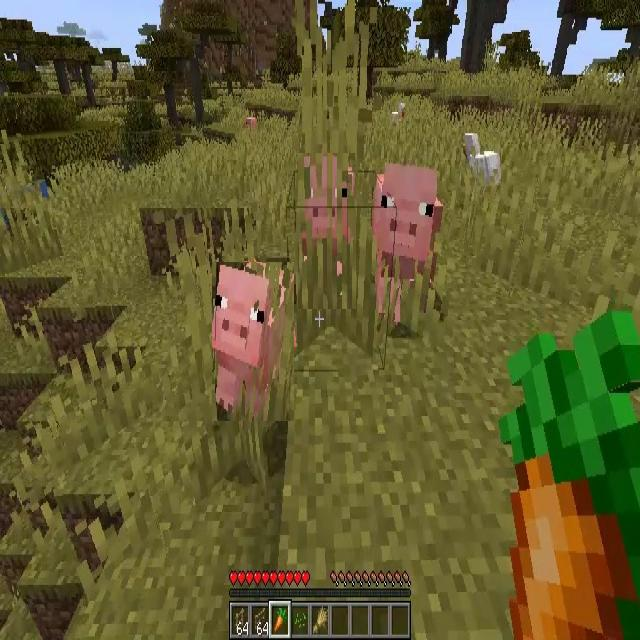duck: (461, 132, 501, 186)
pig: (212, 262, 294, 421), (375, 165, 442, 334), (298, 153, 356, 309)
